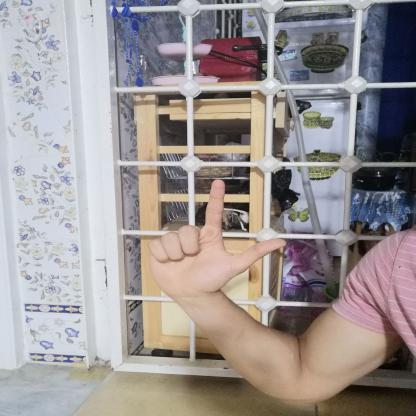LAAM: (132, 168, 300, 309)
